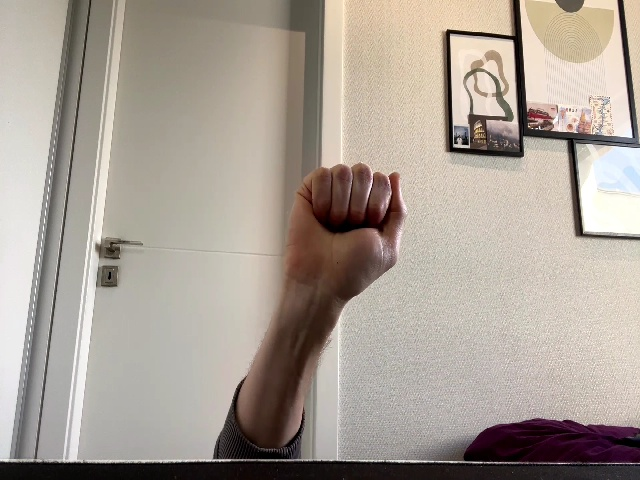A: (282, 162, 409, 301)
